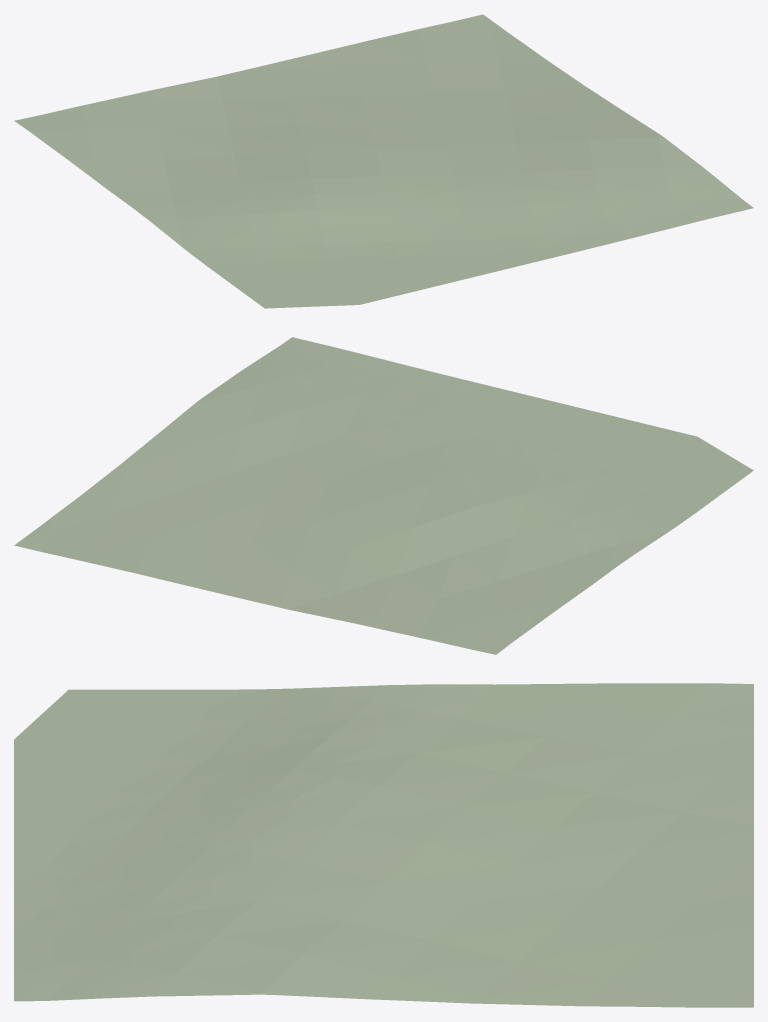
The model's file is SM_MPRR_Terrain_-4_-2.fbx.
3 renders of one model, top to bottom at view 1: azimuth 30°, elevation 25°; view 2: azimuth 150°, elevation 25°; view 3: azimuth 270°, elevation 25°, orthographic. The views are drawn at different scales.
Parts seen in each view (by area): view 1: SM_MPRR_Terrain_-4_-2; view 2: SM_MPRR_Terrain_-4_-2; view 3: SM_MPRR_Terrain_-4_-2.
Boxes of the visible parts, left/top/right/bottom form: SM_MPRR_Terrain_-4_-2: left=14, top=14, right=753, bottom=308; SM_MPRR_Terrain_-4_-2: left=14, top=337, right=753, bottom=654; SM_MPRR_Terrain_-4_-2: left=14, top=683, right=753, bottom=1007.
Bounding box in the file's own units: 15000 × 15000 × 356.
